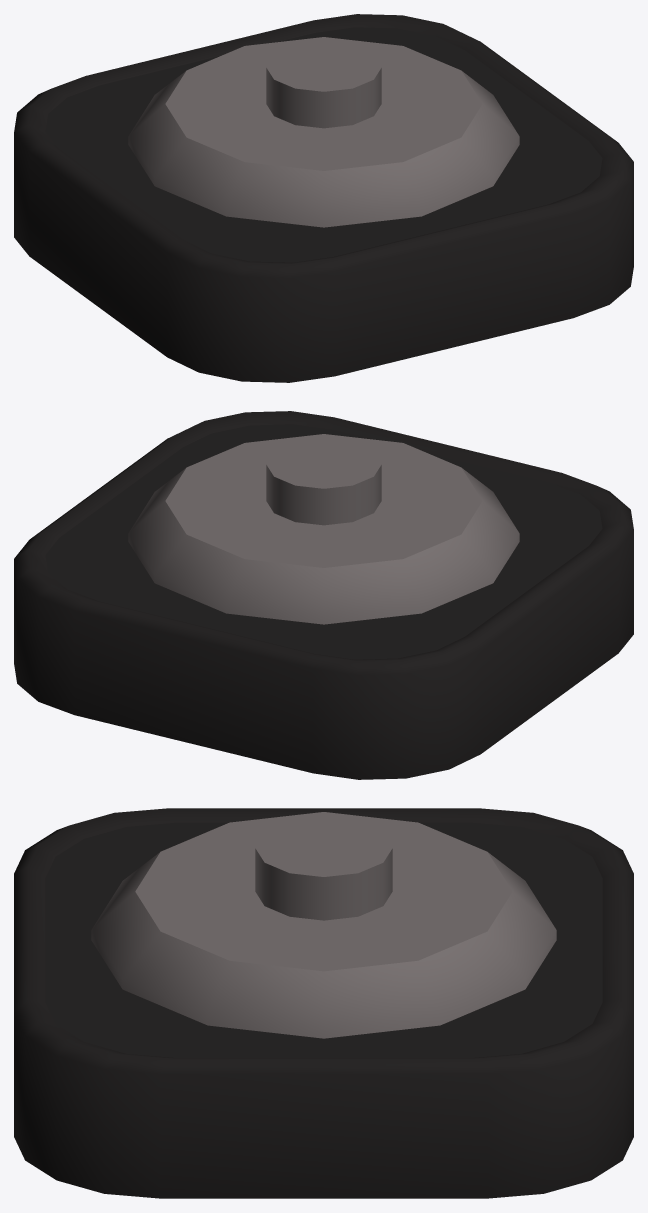
Rendered from ButtonBase.fbx.
3 renders of one model, top to bottom at view 1: azimuth 30°, elevation 25°; view 2: azimuth 150°, elevation 25°; view 3: azimuth 270°, elevation 25°, orthographic. The views are drawn at different scales.
Visible parts, largest first — view 1: ButtonBase; view 2: ButtonBase; view 3: ButtonBase.
Boxes of the visible parts, x1,y1,x2,y2 form: ButtonBase: (14, 14, 633, 382); ButtonBase: (14, 411, 633, 779); ButtonBase: (14, 808, 633, 1198).
Bounding box in the file's own units: 20 × 7.81 × 20.
1 material, 1 textured.
